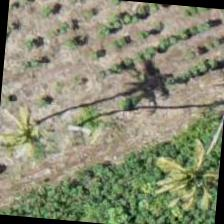Kelapa_Sawit: (0, 86, 79, 183), (147, 134, 222, 223)
